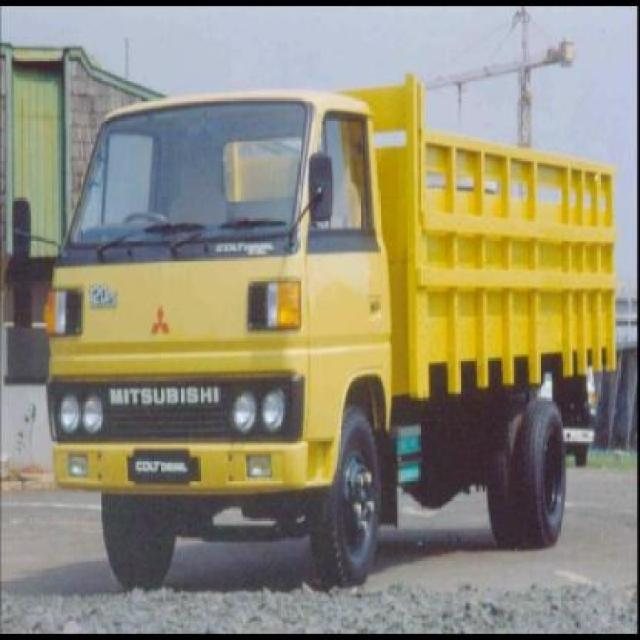truck: (15, 73, 616, 594)
